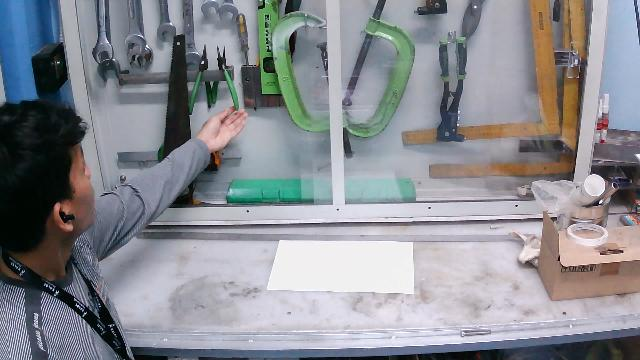tang_cucut_lancip_1: (209, 39, 242, 116)
